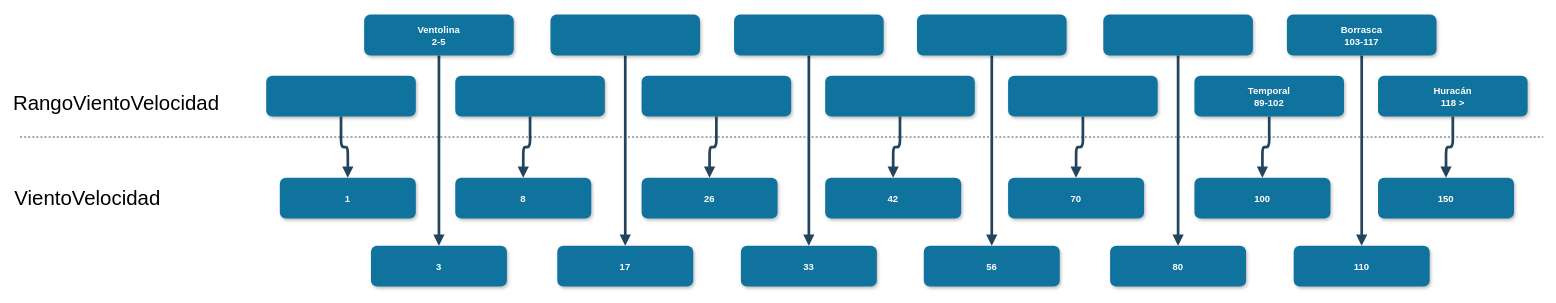
This 1556x303 diagram has some shape labels left out. The shapes that lost their labels are listed below. From the top down, each one's centre as x and y in pixels, then its label:
At [625,36]: "Brisa ligera 12-19".
At [809,36]: "Brisa fresca 29-38".
At [992,36]: "Viento fuerte 50-61".
At [1178,36]: "Viento muy duro 75-88".
At [341,97]: "Calma 0-1".
At [530,97]: "Brisa muy débil 6-11".
At [717,97]: "Brisa moderada 20-28".
At [900,97]: "Brisa fuerte 39-49".
At [1083,97]: "Viento duro 62-74".
